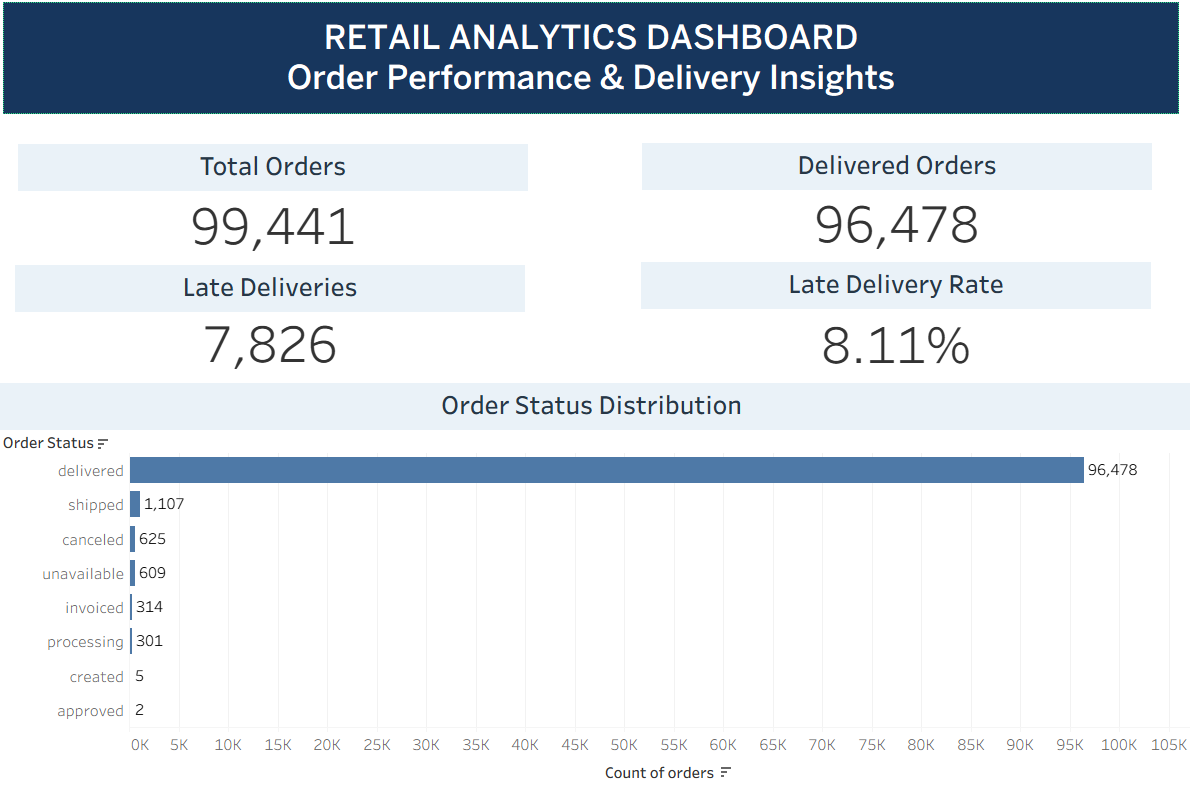

What the dashboard file says about the page in this screenshot:
{"tool":"tableau","page":{"name":"Retail Analytics Dashboard","canvas":[1200,800],"ordinal":0},"visuals":[{"type":"title","box":[8,8,1184,120]},{"type":"worksheet","title":"Delivered Orders","mark":"Automatic","box":[651,153,510,108]},{"type":"worksheet","title":"Total Orders","mark":"Automatic","box":[27,154,510,110]},{"type":"worksheet","title":"Late Delivery Rate","mark":"Automatic","box":[650,272,510,111]},{"type":"worksheet","title":"Late Deliveries","mark":"Automatic","box":[24,275,510,104]},{"type":"worksheet","title":"Order Status Distribution","mark":"Automatic","rows":["order_status"],"cols":["orders_646DCB7834BA4CAF8E4EECACB1016FCB"],"box":[2,393,1197,407]}]}

Visuals, with their boxes in screenshot pixels (x1, y1, x2, y2), scaled from the page's 1200x800 canvas onto the 1190x790 screenshot:
title: [8,8,1182,126]
"Delivered Orders" worksheet: [646,151,1151,258]
"Total Orders" worksheet: [27,152,533,261]
"Late Delivery Rate" worksheet: [645,269,1150,378]
"Late Deliveries" worksheet: [24,272,530,374]
"Order Status Distribution" worksheet: [2,388,1189,789]
